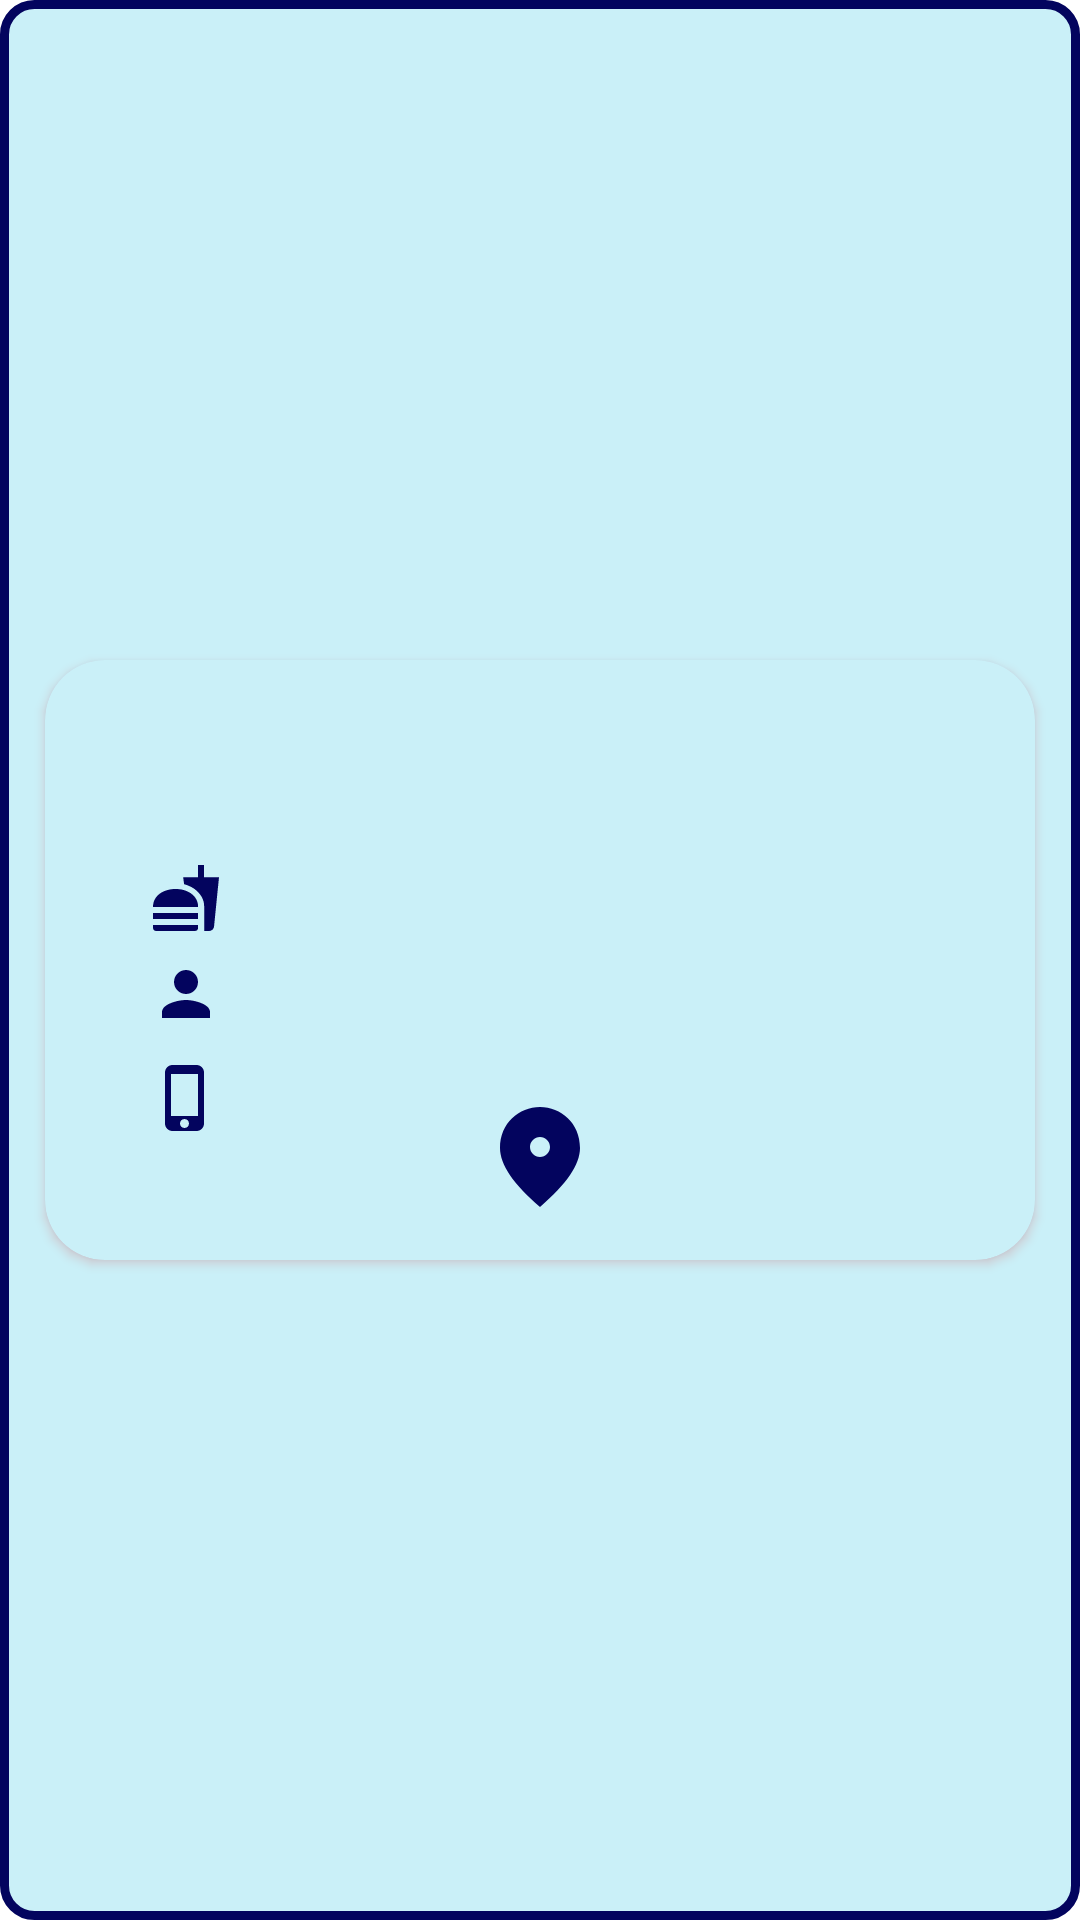

Icon click points for this 1080 × 1920 phone screenshot, format (x=x, y=y):
fmd good: (x=540, y=1157)
